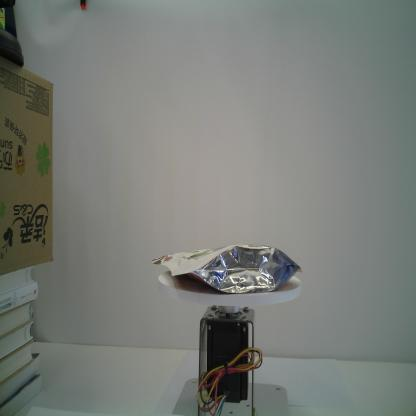Dried Fruit: (151, 243, 303, 295)
